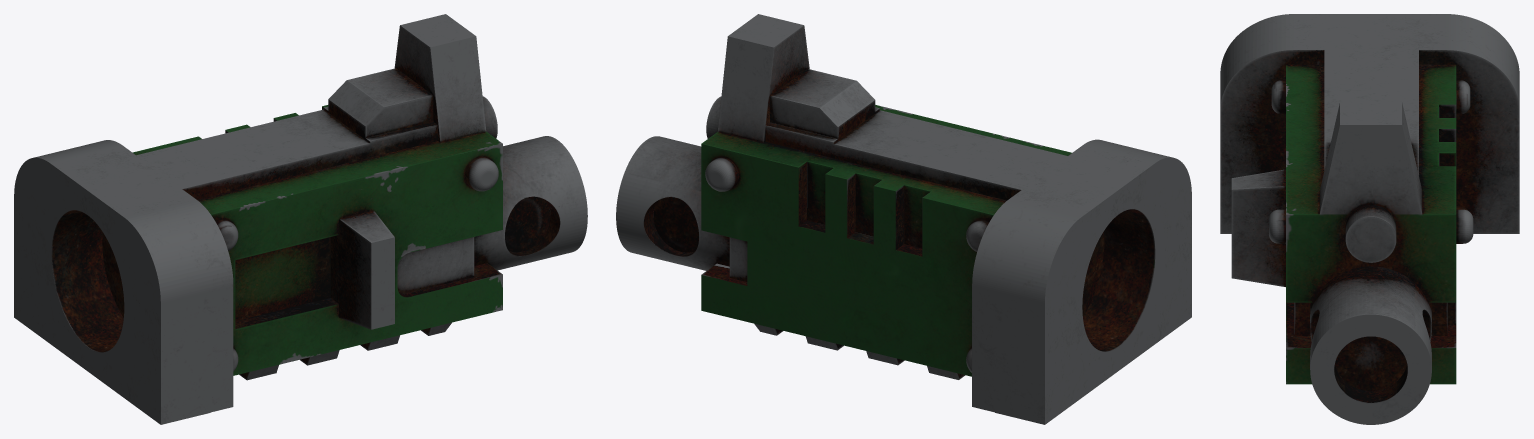
The model's file is hullBolter.glb.
3 renders of one model, left to right at view 1: azimuth 30°, elevation 25°; view 2: azimuth 150°, elevation 25°; view 3: azimuth 270°, elevation 25°, orthographic.
Parts seen in each view (by area): view 1: Hull Bolter; view 2: Hull Bolter; view 3: Hull Bolter.
Part boxes in pixels (left/top/right/bottom): Hull Bolter: left=14, top=14, right=587, bottom=424; Hull Bolter: left=616, top=14, right=1191, bottom=424; Hull Bolter: left=1220, top=14, right=1519, bottom=424.
Size of the model in its own units: 1945 by 1104 by 1050.
Materials: 1 (1 with a texture image).
